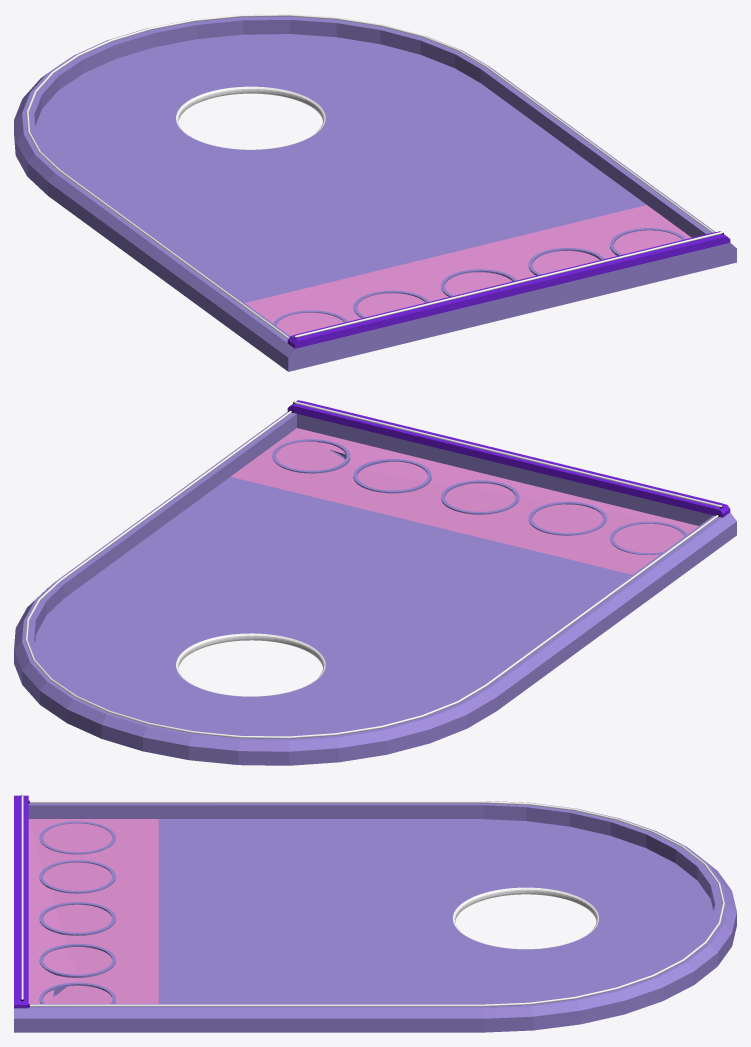
File: Platform 2 - Hole 5.fbx
3 renders of one model, top to bottom at view 1: azimuth 30°, elevation 25°; view 2: azimuth 150°, elevation 25°; view 3: azimuth 270°, elevation 25°, orthographic. The views are drawn at different scales.
Parts seen in each view (by area): view 1: 5HolePlatform-1; view 2: 5HolePlatform-1; view 3: 5HolePlatform-1.
Part boxes in pixels (x1,y1,x2,y2): 5HolePlatform-1: (14, 14, 736, 371); 5HolePlatform-1: (14, 400, 736, 765); 5HolePlatform-1: (14, 794, 736, 1032).
Bounding box in the file's own units: 2504 × 162 × 3576.
